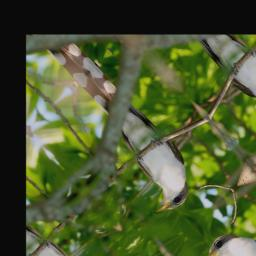Cuckoo: (52, 62, 211, 225)
